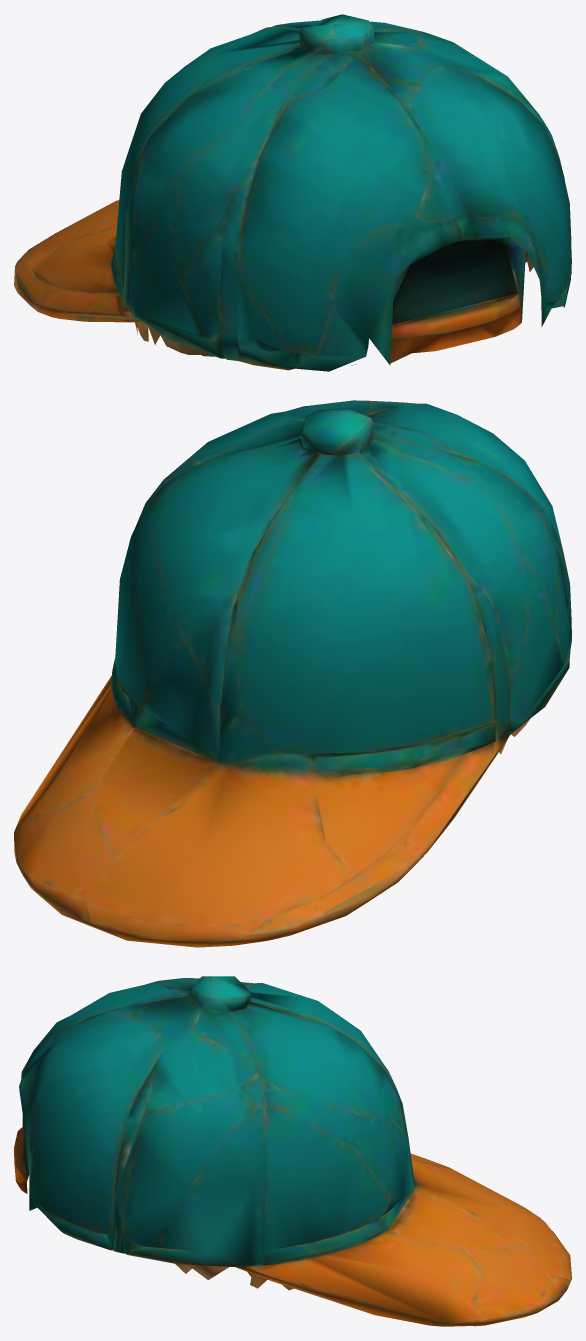
The picture shows the model from 3 angles, top to bottom: view 1: azimuth 30°, elevation 25°; view 2: azimuth 150°, elevation 25°; view 3: azimuth 270°, elevation 25°; orthographic projection. The views are drawn at different scales.
Visible parts, largest first — view 1: material; view 2: material; view 3: material.
Boxes of the visible parts, <box> form: material: <box>14,14,571,371</box>; material: <box>14,400,571,947</box>; material: <box>14,976,571,1326</box>.
Bounding box in the file's own units: 0.6121 × 0.5604 × 0.9494.
1 material, 1 textured.
